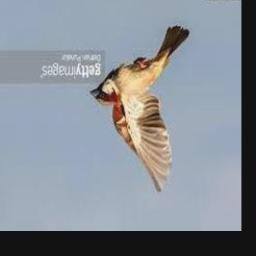Sparrow: (91, 26, 190, 192)
